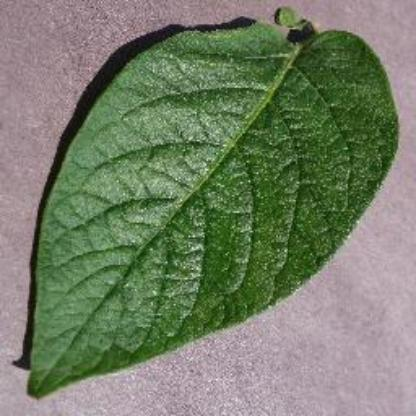Healthy-plant: (20, 16, 396, 396)
